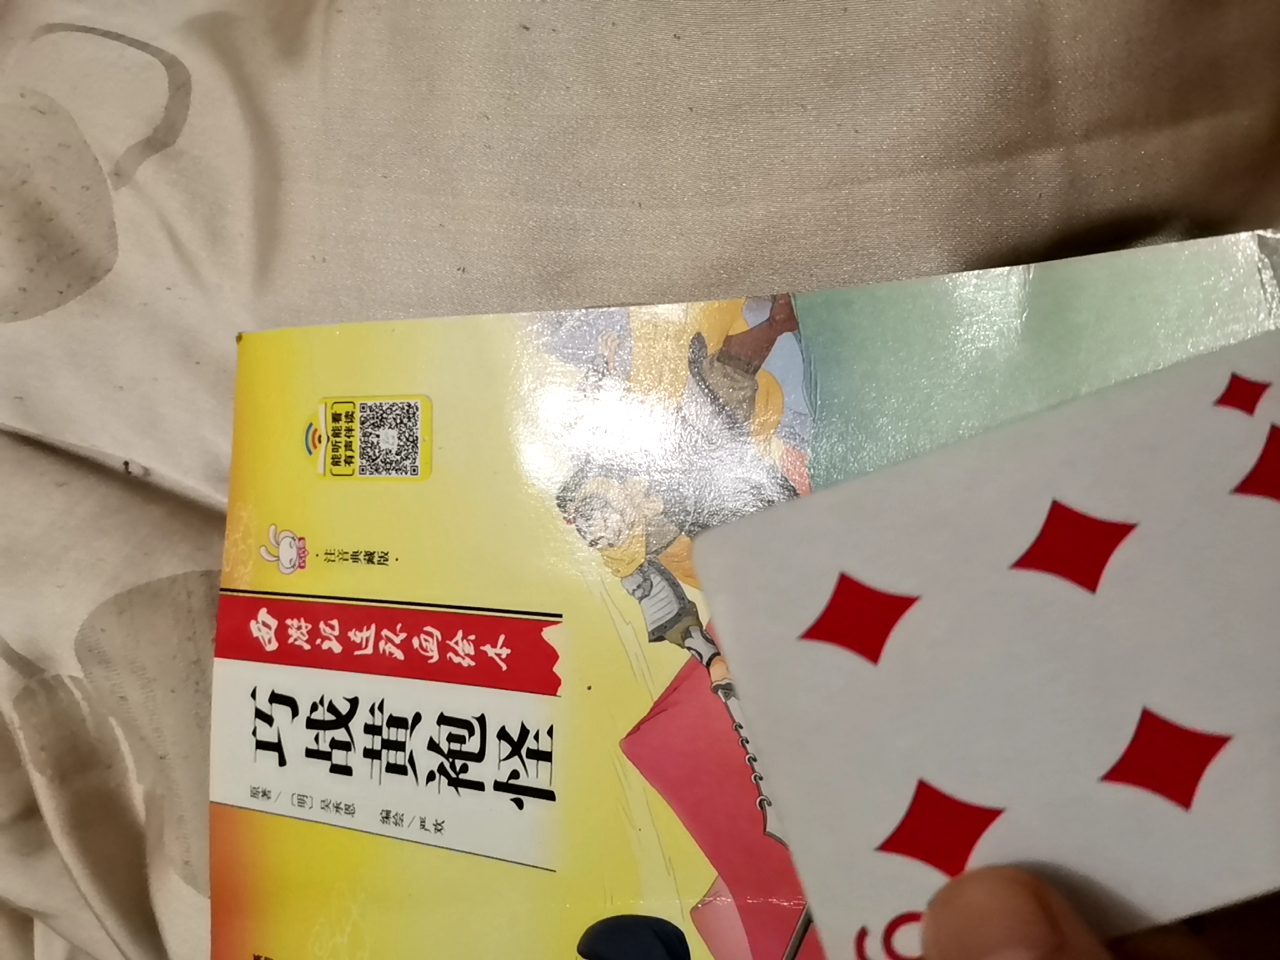fk 6: (703, 305, 1268, 947)
